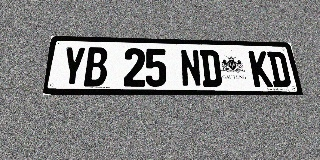2: (124, 48, 145, 87)
5: (146, 48, 167, 87)
B: (84, 47, 108, 87)
D: (267, 51, 292, 87), (199, 50, 223, 87)
K: (248, 51, 273, 87)
N: (180, 49, 202, 87)
Y: (60, 47, 86, 86)
